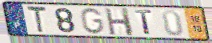0: (161, 9, 185, 38)
8: (54, 7, 78, 34)
G: (79, 7, 106, 35)
H: (103, 7, 136, 37)
T: (25, 5, 48, 35), (134, 9, 155, 36)
